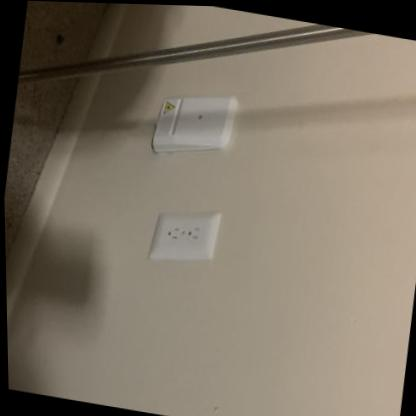OUTLET: (150, 207, 220, 266)
